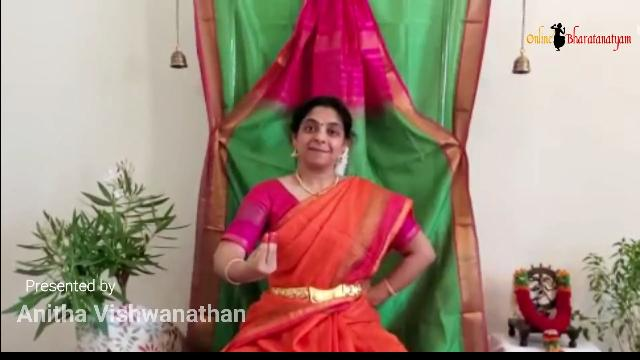mukul: (235, 216, 287, 288)
